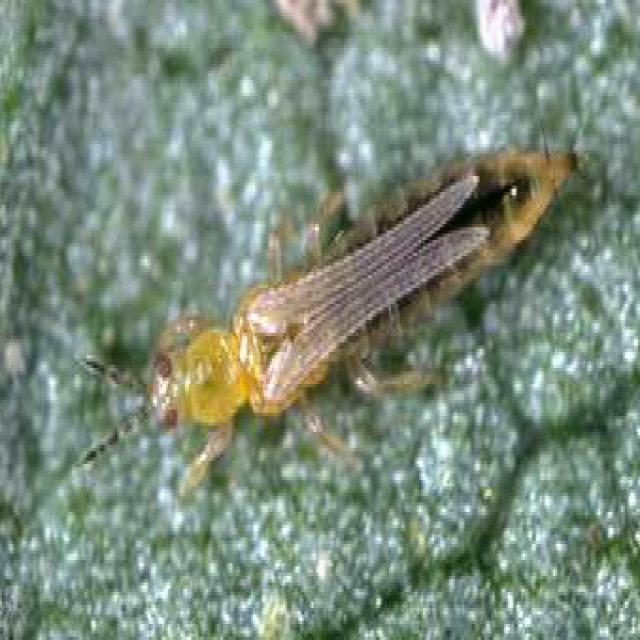Thrip-Adult-: (69, 112, 587, 490)
